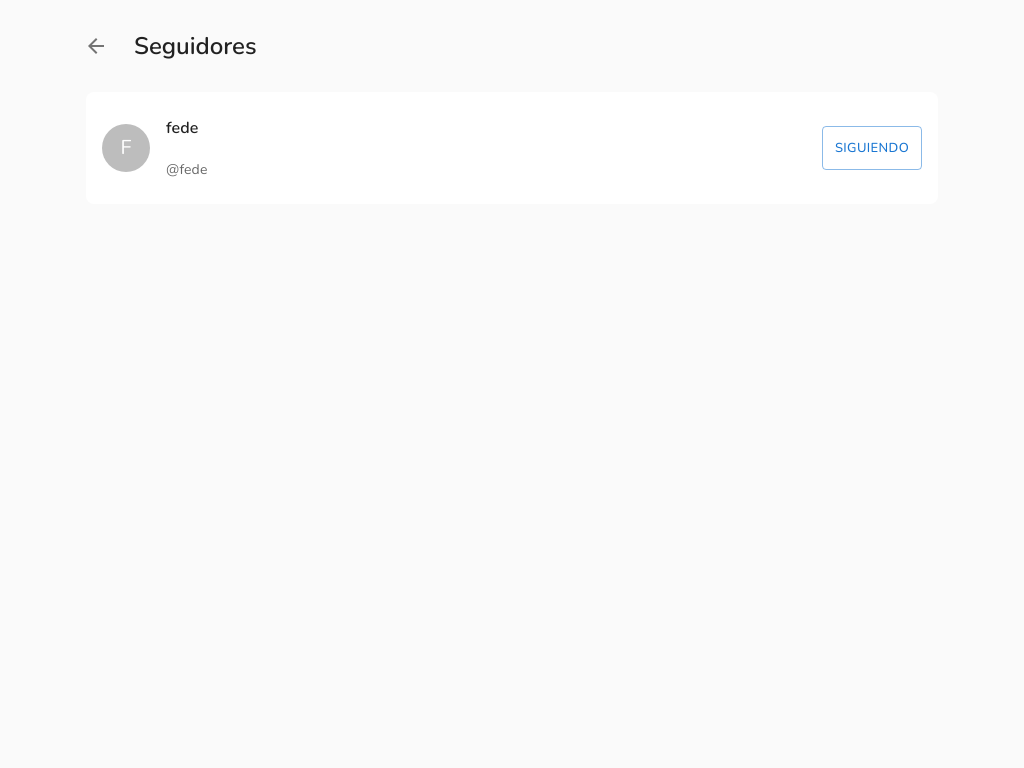
Followers page in Spanish › should ask in Spanish before unfollowing a private account
The image size is (1024, 768).
Step 1. Click the button "Siguiendo" → click(872, 148), box [822,126,922,170]
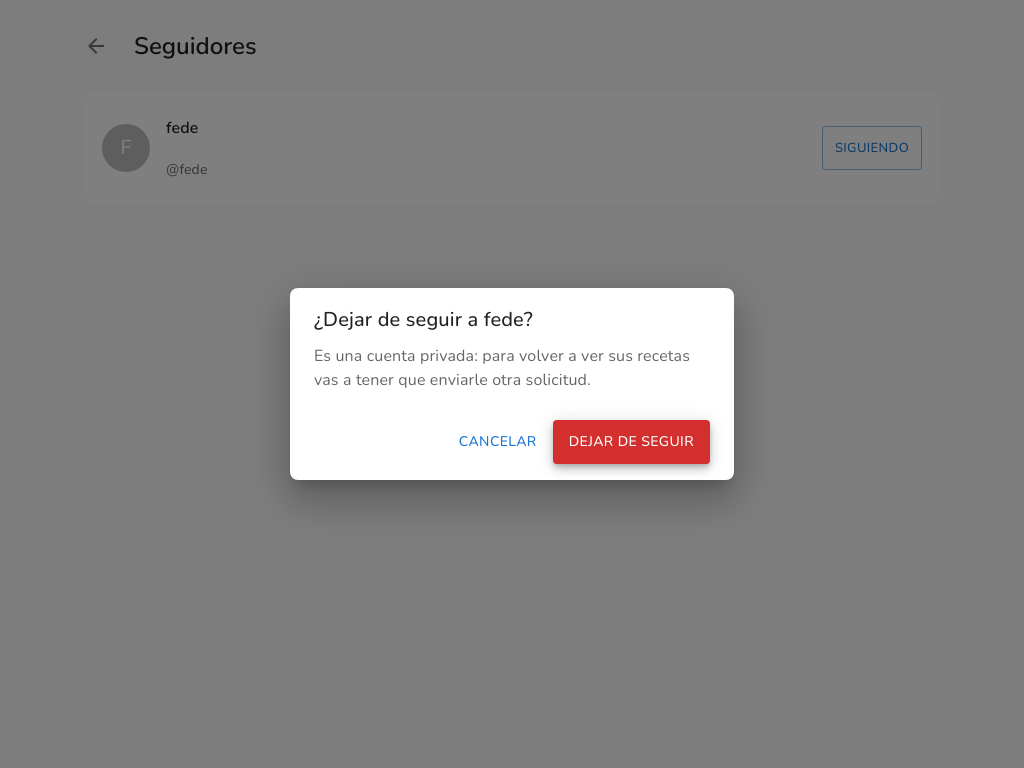
Now the button "Dejar de seguir" is shown, box [553,420,710,464]
Now the button "Cancelar" is shown, box [451,420,545,464]
